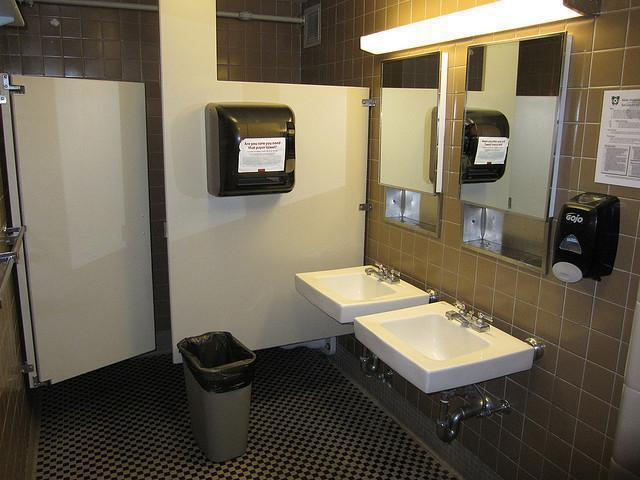Bote de Basura: (173, 329, 257, 462)
Lavamanos: (361, 285, 541, 396), (298, 259, 446, 324)
